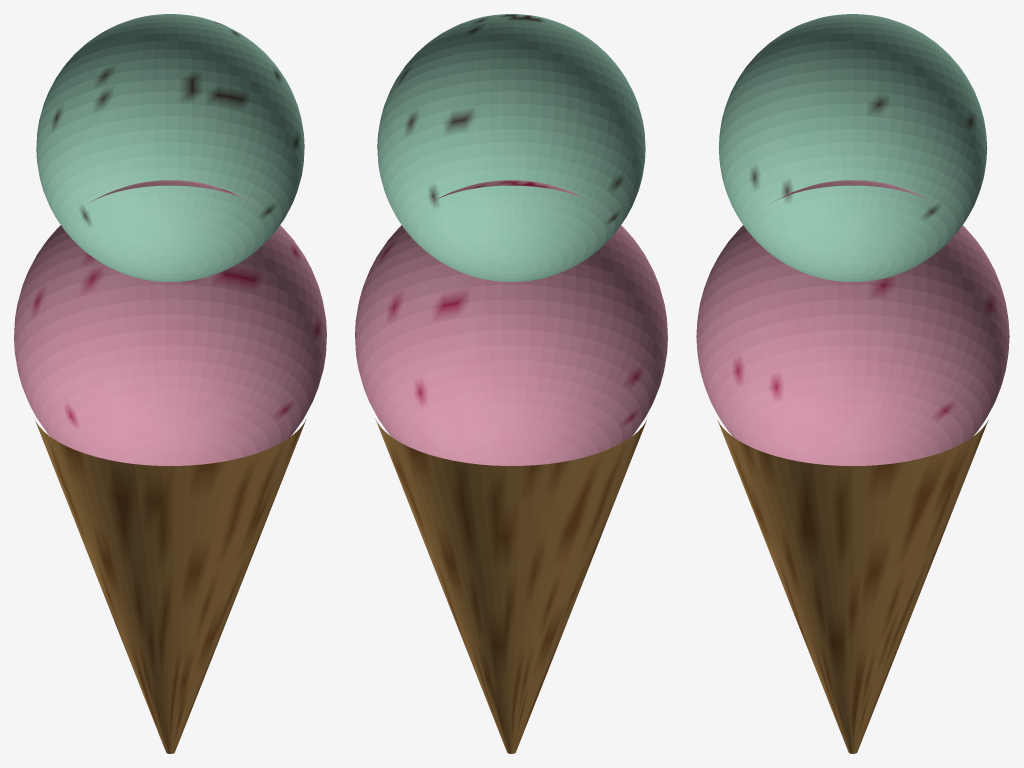
The model's file is icecream.glb.
3 views of the same model, side by side, from view 1: azimuth 30°, elevation 25°; view 2: azimuth 150°, elevation 25°; view 3: azimuth 270°, elevation 25° (orthographic).
Bounding box in the file's own units: 1.4 × 3.58 × 1.4.
